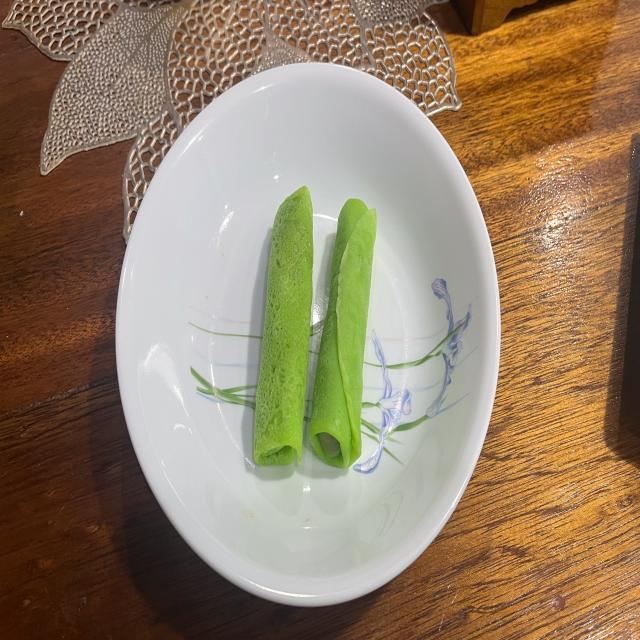Kuih-Ketayap: (310, 198, 378, 469), (254, 187, 314, 464)
